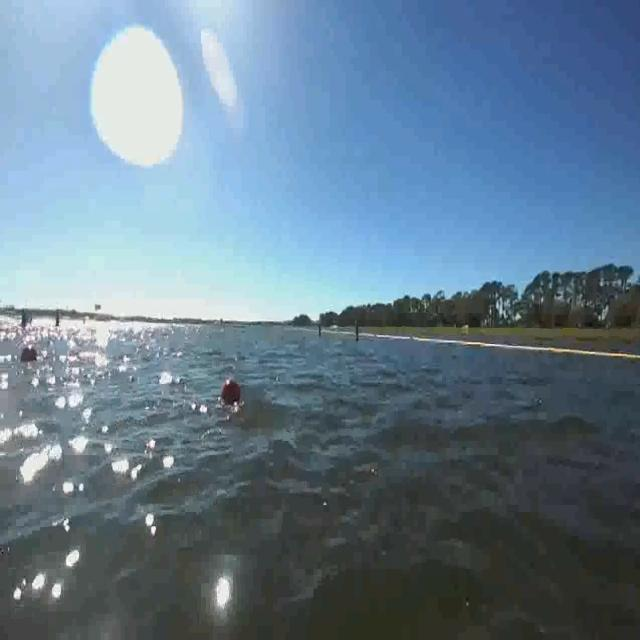red-buoy: (220, 374, 244, 408)
